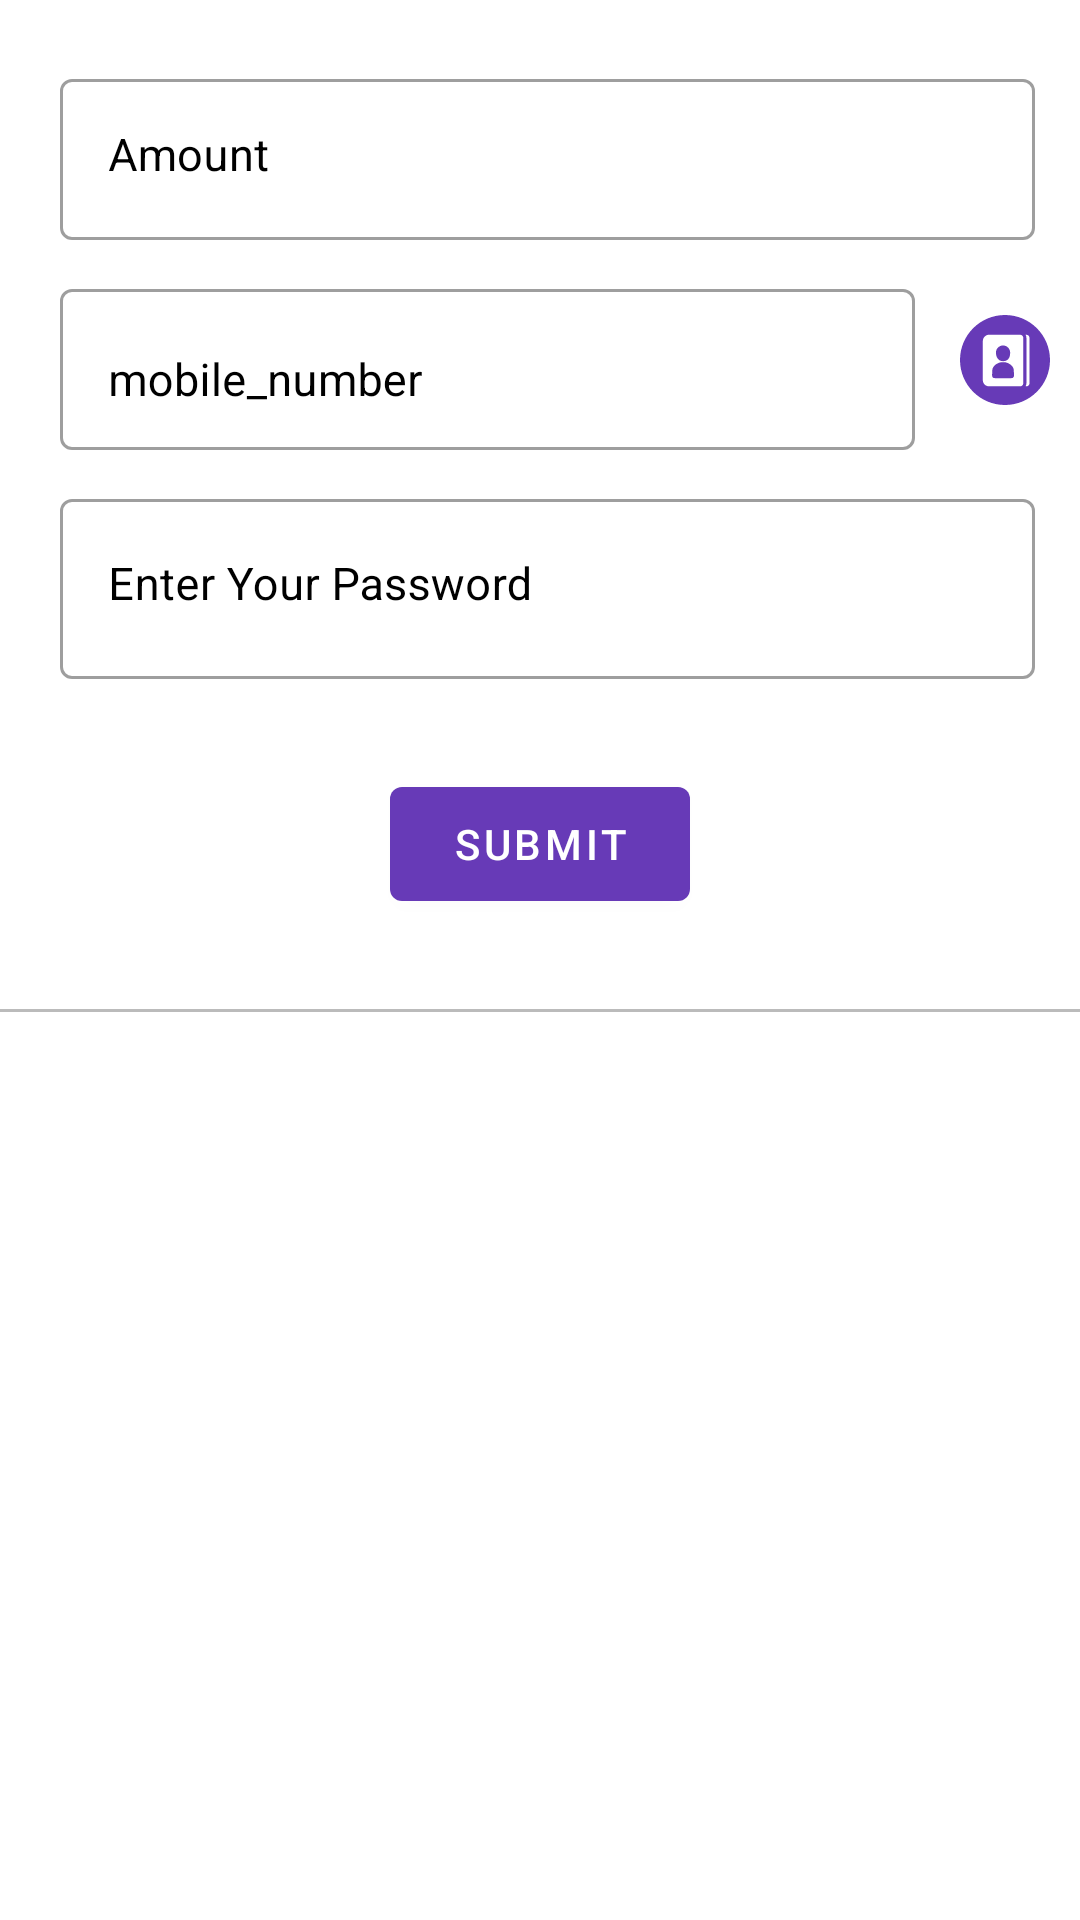

Named icons in this screenshot (1080*1920) and their bounding boxes, {"x1": x1, "y1": y1, "x2": x2, "y2": y2}:
contact: {"x1": 960, "y1": 315, "x2": 1050, "y2": 405}
